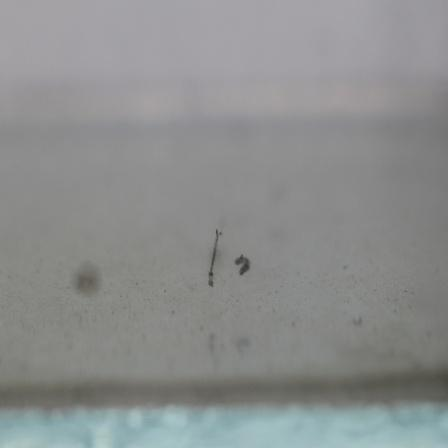Jentik-Nyamuk: (204, 224, 222, 292), (232, 248, 255, 278)
